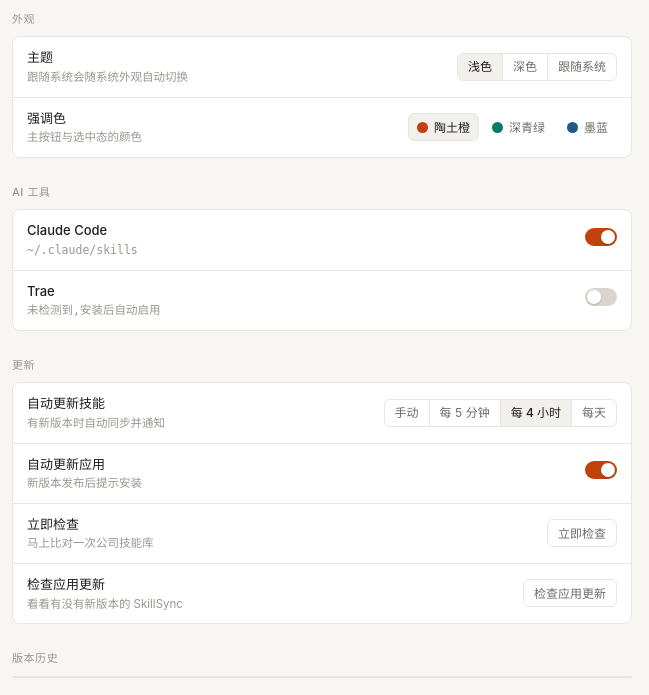
设置页 · 更新区 › App 自更新:点检查 → 亮出新版本号 → 按钮变成下载并安装
(page scrolled)
What coordinates should you click on to do the following:
click the button "检查应用更新"
I would click on:
 (570, 594)
Its box is 523,580 -> 617,608.
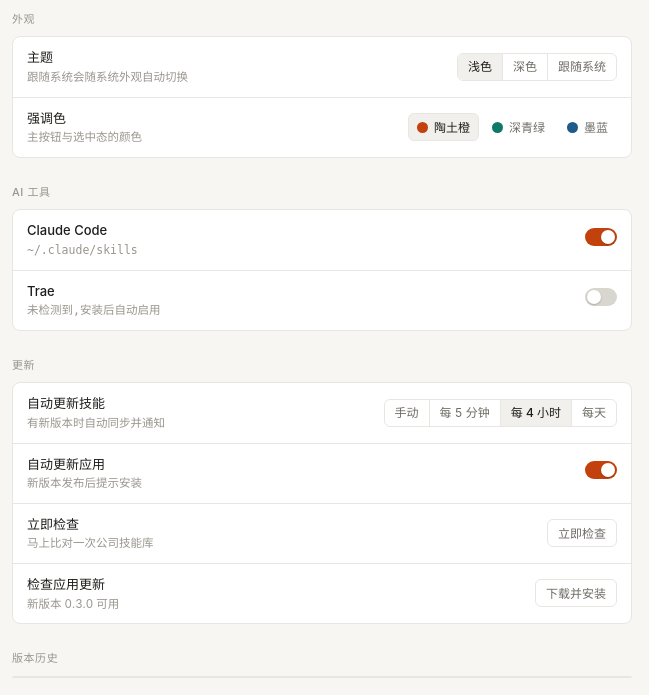
Expected: the text "新版本 0.3.0 可用" is shown, 27,595 -> 119,613
Expected: the button "下载并安装" is shown, 535,580 -> 617,608
